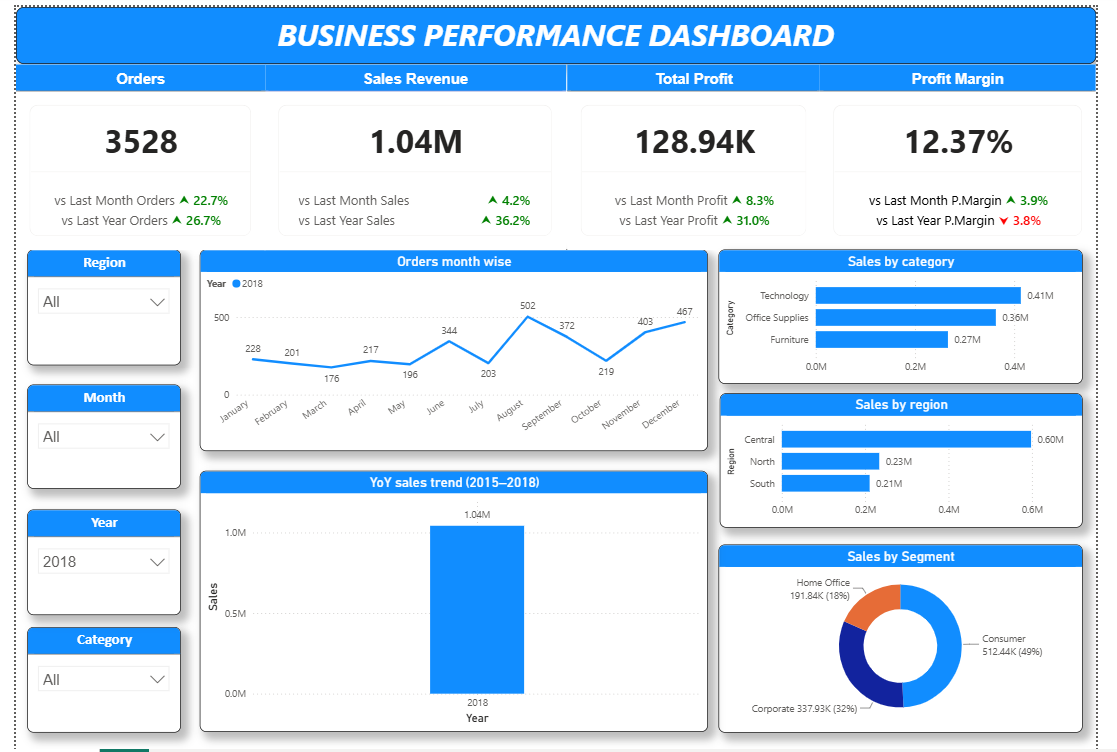

What the dashboard file says about the page in this screenshot:
{"tool":"powerbi","page":{"name":"Descriptive","canvas":[1350,950],"ordinal":0},"visuals":[{"type":"textbox","box":[0,0,1350,71],"z":0},{"type":"lineChart","title":"Orders month wise","fields":{"Y":["CountNonNull(Combined_Orders_Table.Order ID)"],"Category":["Combined_Orders_Table.Month"],"Series":["Combined_Orders_Table.Year"]},"box":[230,303.3,635,251.7],"z":1000},{"type":"slicer","title":"Region","fields":{"Values":["Combined_Orders_Table.Region"]},"box":[13.3,303.3,191.7,145],"z":2000},{"type":"cardVisual","title":"Total Profit","fields":{"Data":["Sum(Combined_Orders_Table.Profit)"]},"box":[688.3,71.7,316.7,231.7],"z":3000},{"type":"slicer","title":"Month","fields":{"Values":["Combined_Orders_Table.Month"]},"box":[13.3,471.7,191.7,130],"z":4000},{"type":"slicer","title":"Category","fields":{"Values":["Combined_Orders_Table.Category"]},"box":[13.3,775,191.7,131.7],"z":5000},{"type":"donutChart","title":"Sales by Segment","fields":{"Category":["Combined_Orders_Table.Segment"],"Y":["Sum(Combined_Orders_Table.Sales)"]},"box":[878.3,671.7,455,235],"z":6000},{"type":"cardVisual","title":"Profit Margin","fields":{"Data":["Combined_Orders_Table.Profit Margin %"]},"box":[1005,71.7,345,231],"z":7000},{"type":"slicer","title":"Year","fields":{"Values":["Combined_Orders_Table.Year"]},"box":[13.3,628.3,191.7,131.7],"z":8000},{"type":"clusteredColumnChart","title":"YoY sales trend (2015–2018)","fields":{"Y":["Sum(Combined_Orders_Table.Sales)"],"Category":["Combined_Orders_Table.Year"]},"box":[230,580,635,326.7],"z":9000},{"type":"clusteredBarChart","title":"Sales by category","fields":{"Y":["Sum(Combined_Orders_Table.Sales)"],"Category":["Combined_Orders_Table.Category"]},"box":[878.3,303.3,455,168.3],"z":10000},{"type":"clusteredBarChart","title":"Sales by region","fields":{"Category":["Combined_Orders_Table.Region"],"Y":["Sum(Combined_Orders_Table.Sales)"]},"box":[880,483.3,453.3,168.3],"z":11000},{"type":"cardVisual","title":"Sales Revenue","fields":{"Data":["Sum(Combined_Orders_Table.Sales)"]},"box":[311.7,71.7,376.7,231.7],"z":12000},{"type":"cardVisual","title":"Orders","fields":{"Data":["CountNonNull(Combined_Orders_Table.Order ID)"]},"box":[0,71.7,311.7,231.7],"z":13000}]}

Visuals, with their boxes on the page's 1350x950 design canvas (x1, y1, x2, y2). These are canvas units, not pixel positions in the 1117x752 screenshot, which may show the page scaled, cropped or inside an application window:
textbox: locate(0, 0, 1350, 71)
"Orders month wise" lineChart: locate(230, 303, 865, 555)
"Region" slicer: locate(13, 303, 205, 448)
"Total Profit" cardVisual: locate(688, 72, 1005, 303)
"Month" slicer: locate(13, 472, 205, 602)
"Category" slicer: locate(13, 775, 205, 907)
"Sales by Segment" donutChart: locate(878, 672, 1333, 907)
"Profit Margin" cardVisual: locate(1005, 72, 1350, 303)
"Year" slicer: locate(13, 628, 205, 760)
"YoY sales trend (2015–2018)" clusteredColumnChart: locate(230, 580, 865, 907)
"Sales by category" clusteredBarChart: locate(878, 303, 1333, 472)
"Sales by region" clusteredBarChart: locate(880, 483, 1333, 652)
"Sales Revenue" cardVisual: locate(312, 72, 688, 303)
"Orders" cardVisual: locate(0, 72, 312, 303)
